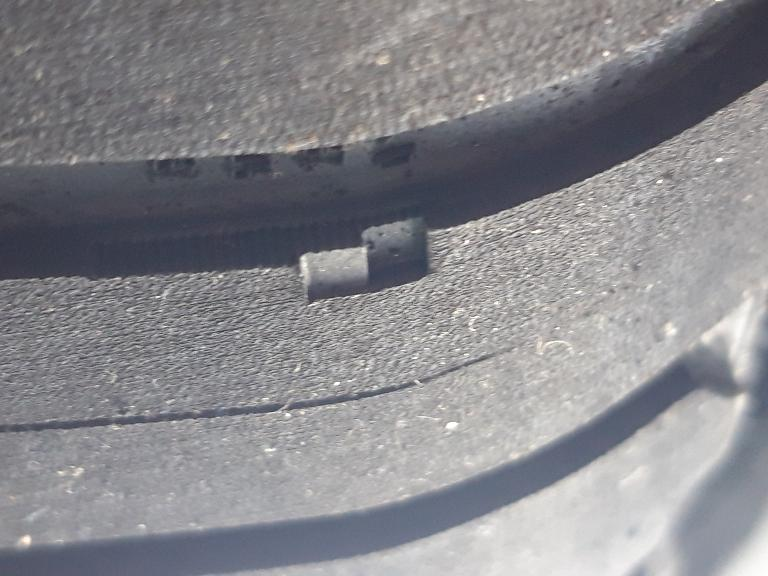temoin:25: (276, 188, 449, 324)
